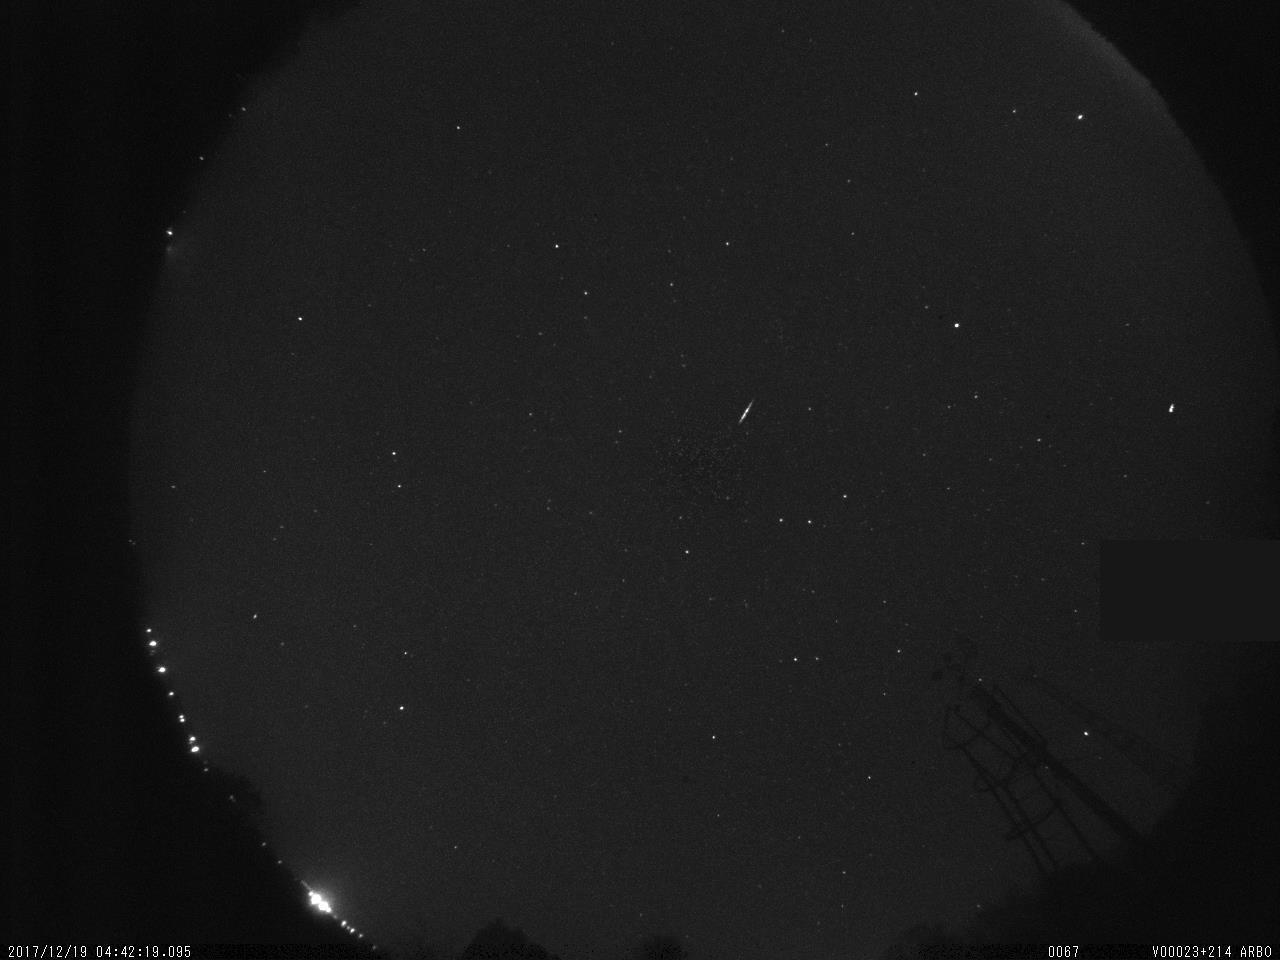meteor: (712, 388, 779, 444)
